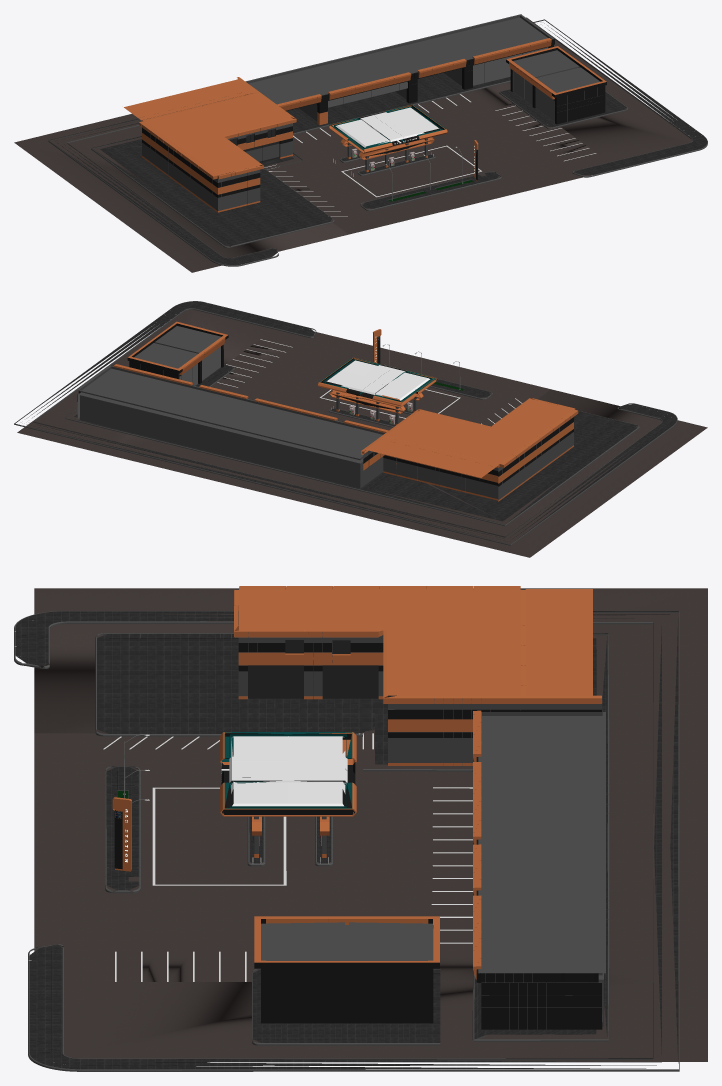
Rendered from pump_station.glb.
The picture shows the model from 3 angles, top to bottom: view 1: azimuth 30°, elevation 25°; view 2: azimuth 150°, elevation 25°; view 3: azimuth 270°, elevation 25°; orthographic projection. The views are drawn at different scales.
Visible parts, largest first — view 1: Plane.001; view 2: Plane.001; view 3: Plane.001.
Boxes of the visible parts, x1,y1,x2,y2 form: Plane.001: (14, 14, 707, 272); Plane.001: (14, 301, 707, 557); Plane.001: (14, 586, 707, 1071).
Bounding box in the file's own units: 15.2 × 1.08 × 9.22.
Materials: 40 (3 with a texture image).
